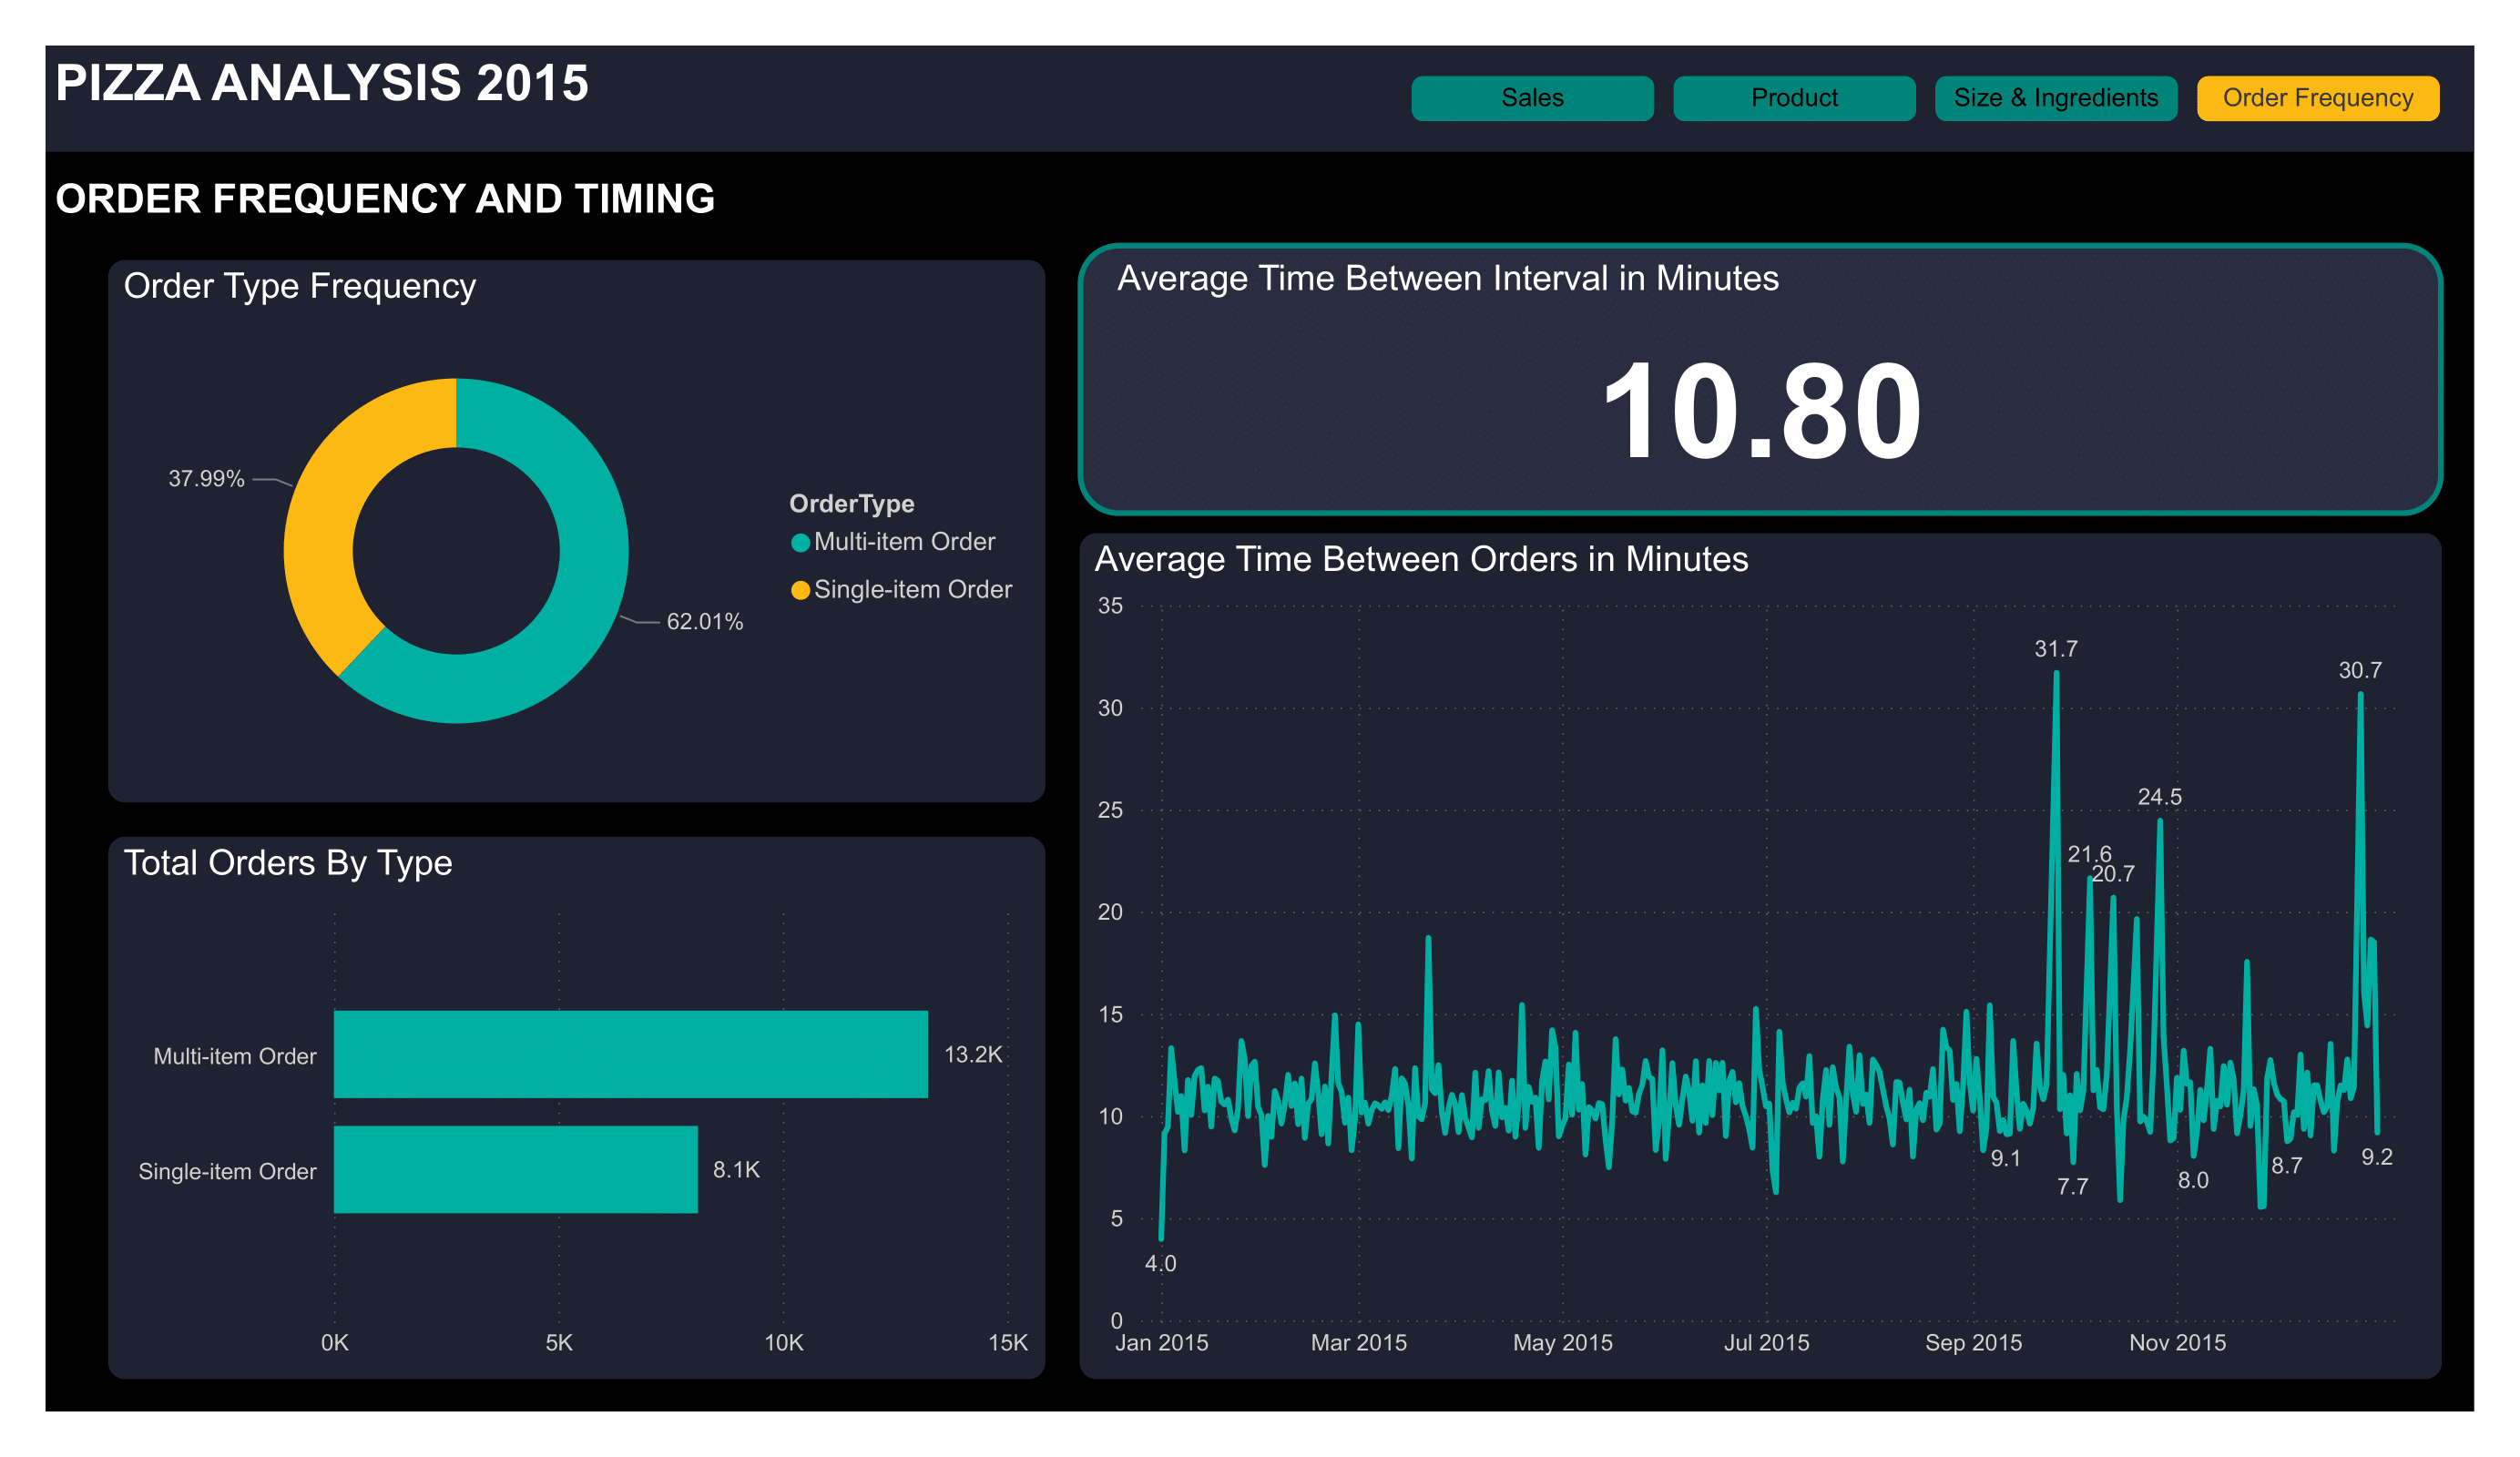

The dashboard page shown, as its layout file describes it:
{"tool":"powerbi","page":{"name":"Order Frequency","canvas":[1280,720],"ordinal":3},"visuals":[{"type":"group","id":"g1","title":"Group 2","box":[544,104,720,144],"z":0},{"type":"shape","box":[544,104,720,144],"z":0,"group":"g2"},{"type":"group","id":"g2","title":"Group 1","box":[544,104,720,144],"z":1000,"group":"g1"},{"type":"card","title":"Average Time Between Interval in Minutes","fields":{"Values":["_Measures.Average Interval"]},"box":[560,112,688,128],"z":1000},{"type":"lineChart","title":"Average Time Between Orders in Minutes","fields":{"Category":["Merge1.date.Variation.Date Hierarchy.Year","Merge1.date.Variation.Date Hierarchy.Quarter","Merge1.date.Variation.Date Hierarchy.Month","Merge1.date.Variation.Date Hierarchy.Day"],"Y":["Avg(Merge1.TimeDifference_Minutes)"]},"box":[544,256,720,448],"z":2000},{"type":"clusteredBarChart","title":"Total Orders By Type","fields":{"Category":["OrderSummary.OrderType"],"Y":["Count(OrderSummary.order_id)"]},"box":[32,416,496,288],"z":3000},{"type":"textbox","box":[0,0,1280,56],"z":4000},{"type":"donutChart","title":"Order Type Frequency","fields":{"Y":["_Measures.% of Orders"],"Category":["OrderSummary.OrderType"]},"box":[32,112,496,288],"z":5000},{"type":"textbox","box":[0,64,384,40],"z":6000},{"type":"pageNavigator","box":[720,16,544,24],"z":7000}]}

Visuals, with their boxes on the page's 1280x720 design canvas (x1, y1, x2, y2). These are canvas units, not pixel positions in the 2520x1457 screenshot, which may show the page scaled, cropped or inside an application window:
"Group 2" group: l=544, t=104, r=1264, b=248
shape: l=544, t=104, r=1264, b=248
"Group 1" group: l=544, t=104, r=1264, b=248
"Average Time Between Interval in Minutes" card: l=560, t=112, r=1248, b=240
"Average Time Between Orders in Minutes" lineChart: l=544, t=256, r=1264, b=704
"Total Orders By Type" clusteredBarChart: l=32, t=416, r=528, b=704
textbox: l=0, t=0, r=1280, b=56
"Order Type Frequency" donutChart: l=32, t=112, r=528, b=400
textbox: l=0, t=64, r=384, b=104
pageNavigator: l=720, t=16, r=1264, b=40
